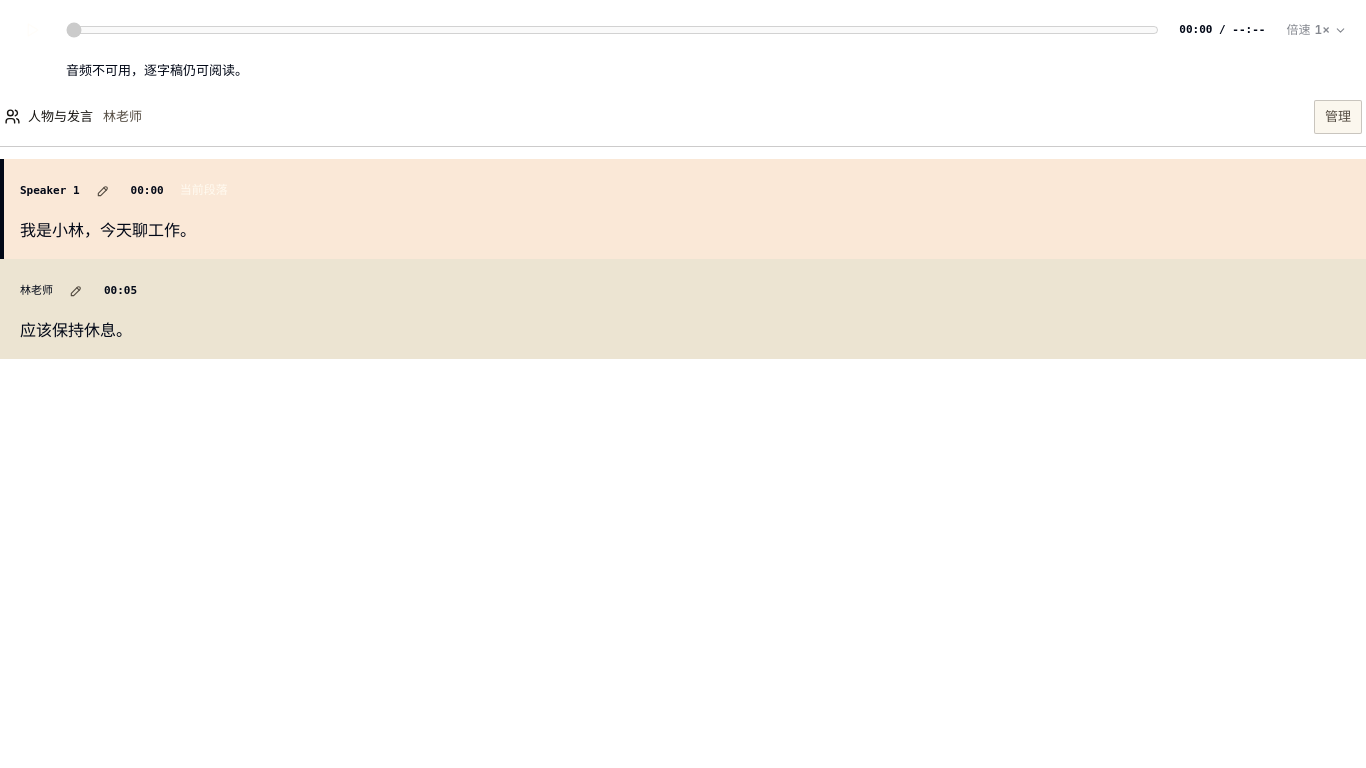
it: 局部匹配的管理入口与初始服务端渲染 › opens the applied fragment when editing a partially matched speaker row
The image size is (1366, 768).
Click the button "管理": click(1338, 117) [1314, 100, 1362, 134]
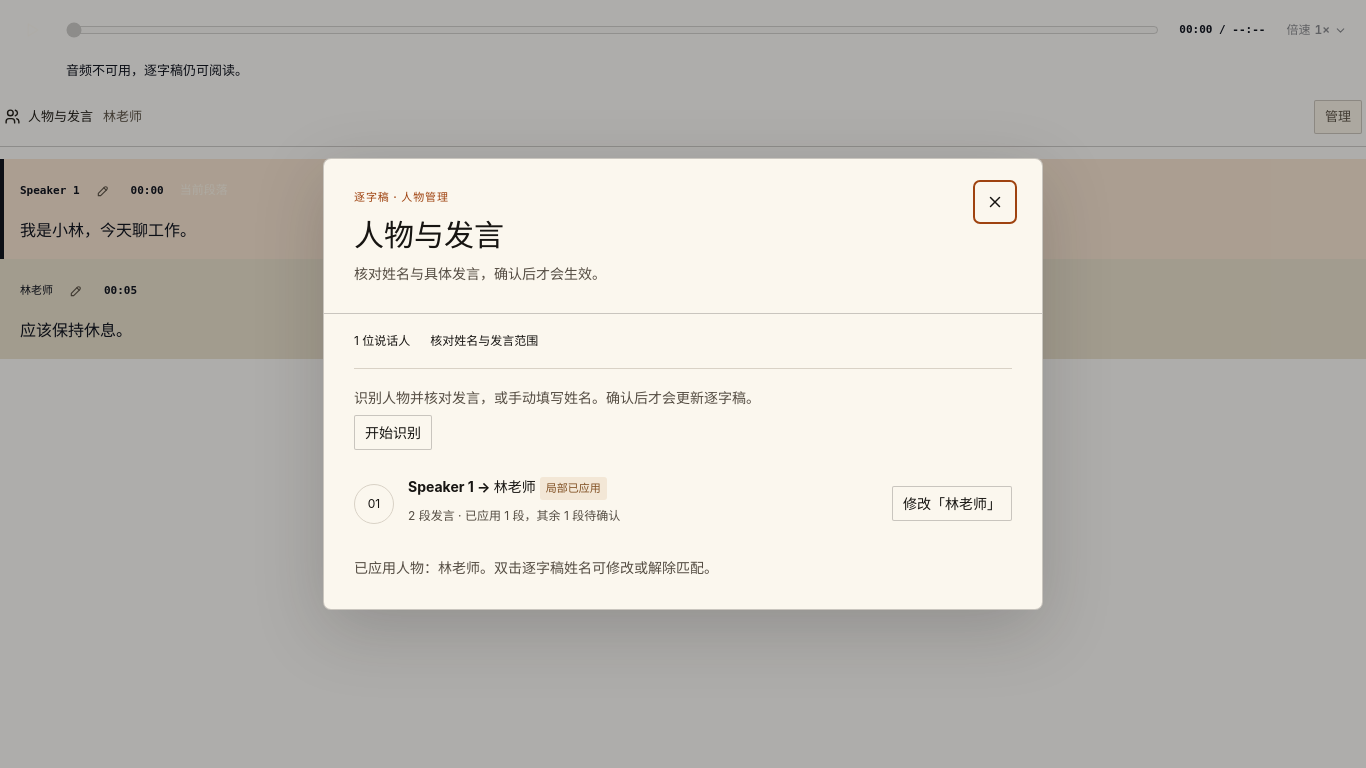
Expected: the text "局部已应用" is shown, [540, 477, 607, 500]
Expected: the text "2 段发言 · 已应用 1 段，其余 1 段待确认" is shown, [408, 508, 620, 523]
Click the button "修改「林老师」": click(952, 504) [892, 486, 1012, 521]
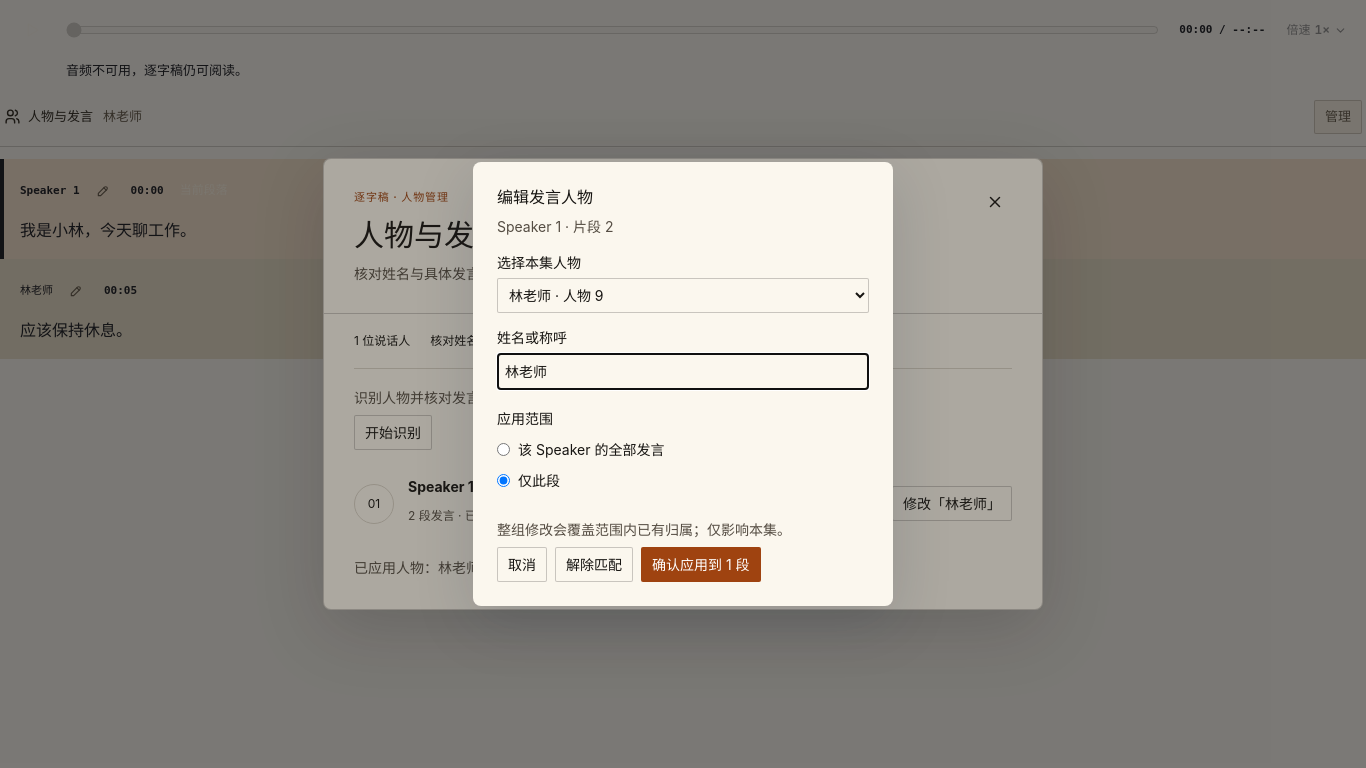
Expected: the text "Speaker 1 · 片段 2" is shown, [497, 218, 614, 235]
Expected: the field labelled "姓名或称呼" holds "林老师", [497, 353, 869, 390]
Expected: the radio button labelled "仅此段" is checked, [497, 470, 510, 491]
Click the button "解除匹配": click(594, 565) [555, 547, 633, 582]
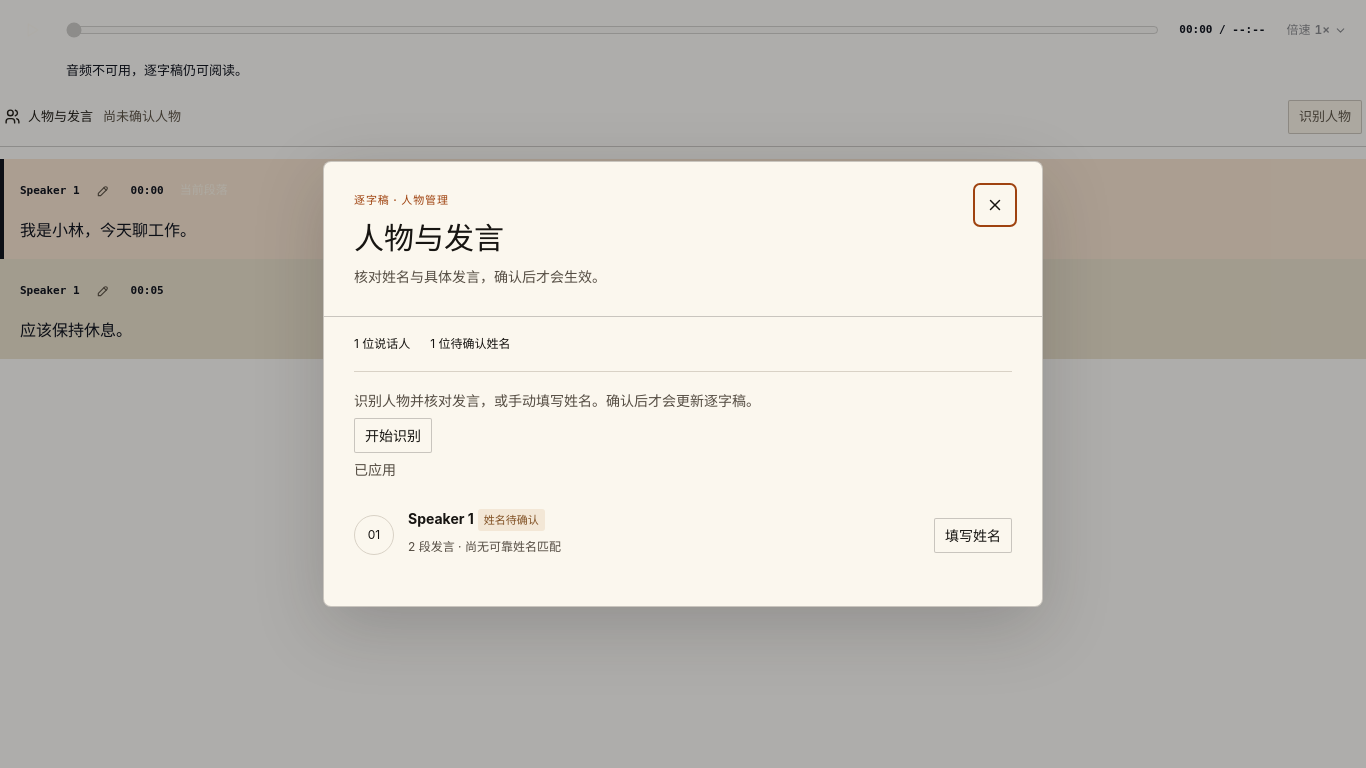
Expected: the button "填写姓名" is shown, [934, 518, 1012, 553]
Expected: the heading "编辑发言人物" is gone
